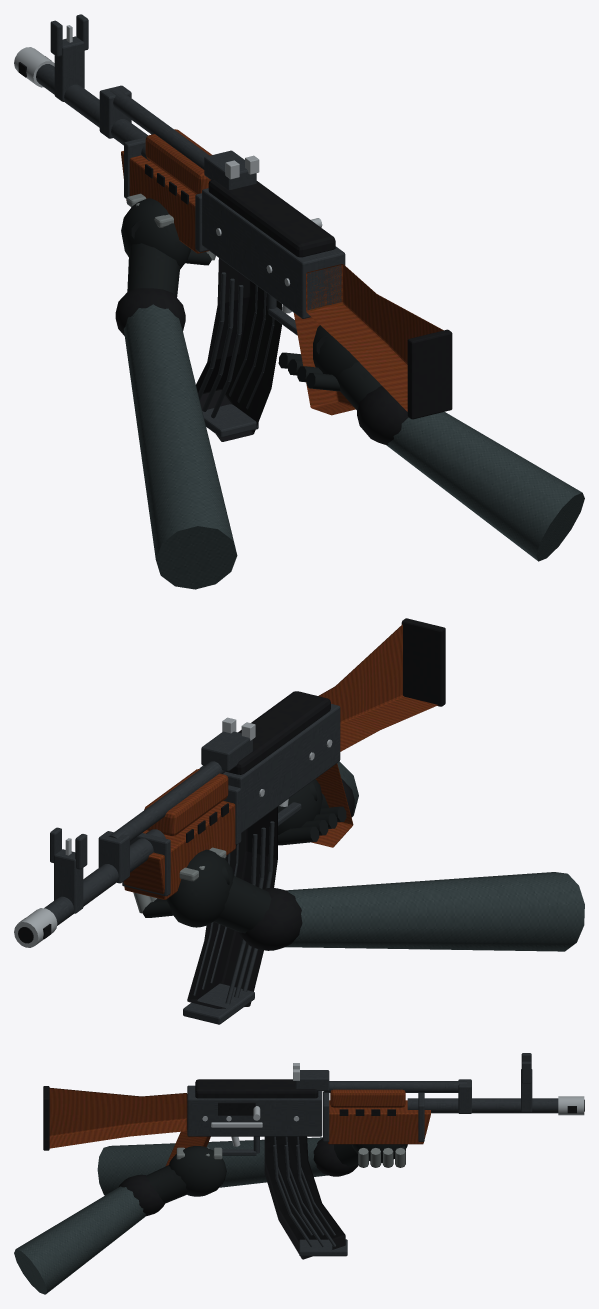
File: rifle_fp.glb
3 renders of one model, top to bottom at view 1: azimuth 30°, elevation 25°; view 2: azimuth 150°, elevation 25°; view 3: azimuth 270°, elevation 25°, orthographic. The views are drawn at different scales.
Visible parts, largest first — view 1: leftHand_Slate woven sleeves, body_Parkerized steel, body_Oiled walnut, rightHand_Slate woven sleeves, body_Graphite polymer, magazine_Graphite polymer, leftHand_Charcoal gloves, magazine_Parkerized steel, rightHand_Charcoal gloves, rightHand_Graphite polymer, body_Machined edges, leftHand_Graphite polymer; view 2: leftHand_Slate woven sleeves, body_Parkerized steel, body_Oiled walnut, body_Graphite polymer, leftHand_Charcoal gloves, magazine_Graphite polymer, magazine_Parkerized steel, rightHand_Charcoal gloves, leftHand_Graphite polymer, body_Machined edges, leftHand_Leather reinforcement; view 3: body_Oiled walnut, body_Parkerized steel, rightHand_Slate woven sleeves, leftHand_Slate woven sleeves, magazine_Graphite polymer, body_Graphite polymer, rightHand_Charcoal gloves, magazine_Parkerized steel, body_Machined edges, rightHand_Graphite polymer, leftHand_Charcoal gloves, leftHand_Graphite polymer (+1 smaller).
Part boxes in pixels (box(x1,y1,x2,y2)): leftHand_Slate woven sleeves: box(123, 304, 237, 589); body_Parkerized steel: box(36, 14, 345, 335); body_Oiled walnut: box(121, 129, 443, 415); rightHand_Slate woven sleeves: box(386, 412, 584, 561); body_Graphite polymer: box(18, 56, 452, 419); magazine_Graphite polymer: box(196, 258, 281, 441); leftHand_Charcoal gloves: box(121, 198, 211, 297); magazine_Parkerized steel: box(198, 272, 274, 437); rightHand_Charcoal gloves: box(278, 325, 381, 410); rightHand_Graphite polymer: box(357, 386, 408, 444); body_Machined edges: box(14, 25, 322, 313); leftHand_Graphite polymer: box(115, 288, 185, 335); leftHand_Slate woven sleeves: box(285, 872, 584, 951); body_Parkerized steel: box(44, 704, 340, 925); body_Oiled walnut: box(123, 624, 438, 899); body_Graphite polymer: box(18, 618, 445, 943); leftHand_Charcoal gloves: box(142, 849, 271, 933); magazine_Graphite polymer: box(187, 807, 277, 1008); magazine_Parkerized steel: box(183, 821, 274, 1024); rightHand_Charcoal gloves: box(278, 779, 346, 845); leftHand_Graphite polymer: box(238, 888, 302, 950); body_Machined edges: box(14, 717, 332, 947); leftHand_Leather reinforcement: box(133, 847, 226, 913); body_Oiled walnut: box(49, 1088, 430, 1166); body_Parkerized steel: box(187, 1053, 558, 1155); rightHand_Slate woven sleeves: box(14, 1186, 145, 1294); leftHand_Slate woven sleeves: box(97, 1137, 327, 1195); magazine_Graphite polymer: box(264, 1136, 345, 1259); body_Graphite polymer: box(43, 1079, 584, 1150); rightHand_Charcoal gloves: box(146, 1146, 226, 1203); magazine_Parkerized steel: box(273, 1136, 347, 1256); body_Machined edges: box(202, 1063, 584, 1146); rightHand_Graphite polymer: box(118, 1174, 164, 1216); leftHand_Charcoal gloves: box(334, 1144, 407, 1167); leftHand_Graphite polymer: box(313, 1138, 358, 1176).
Size of the model in its own units: 0.713 by 0.5548 by 1.44.
Materials: 7 (5 with a texture image).
